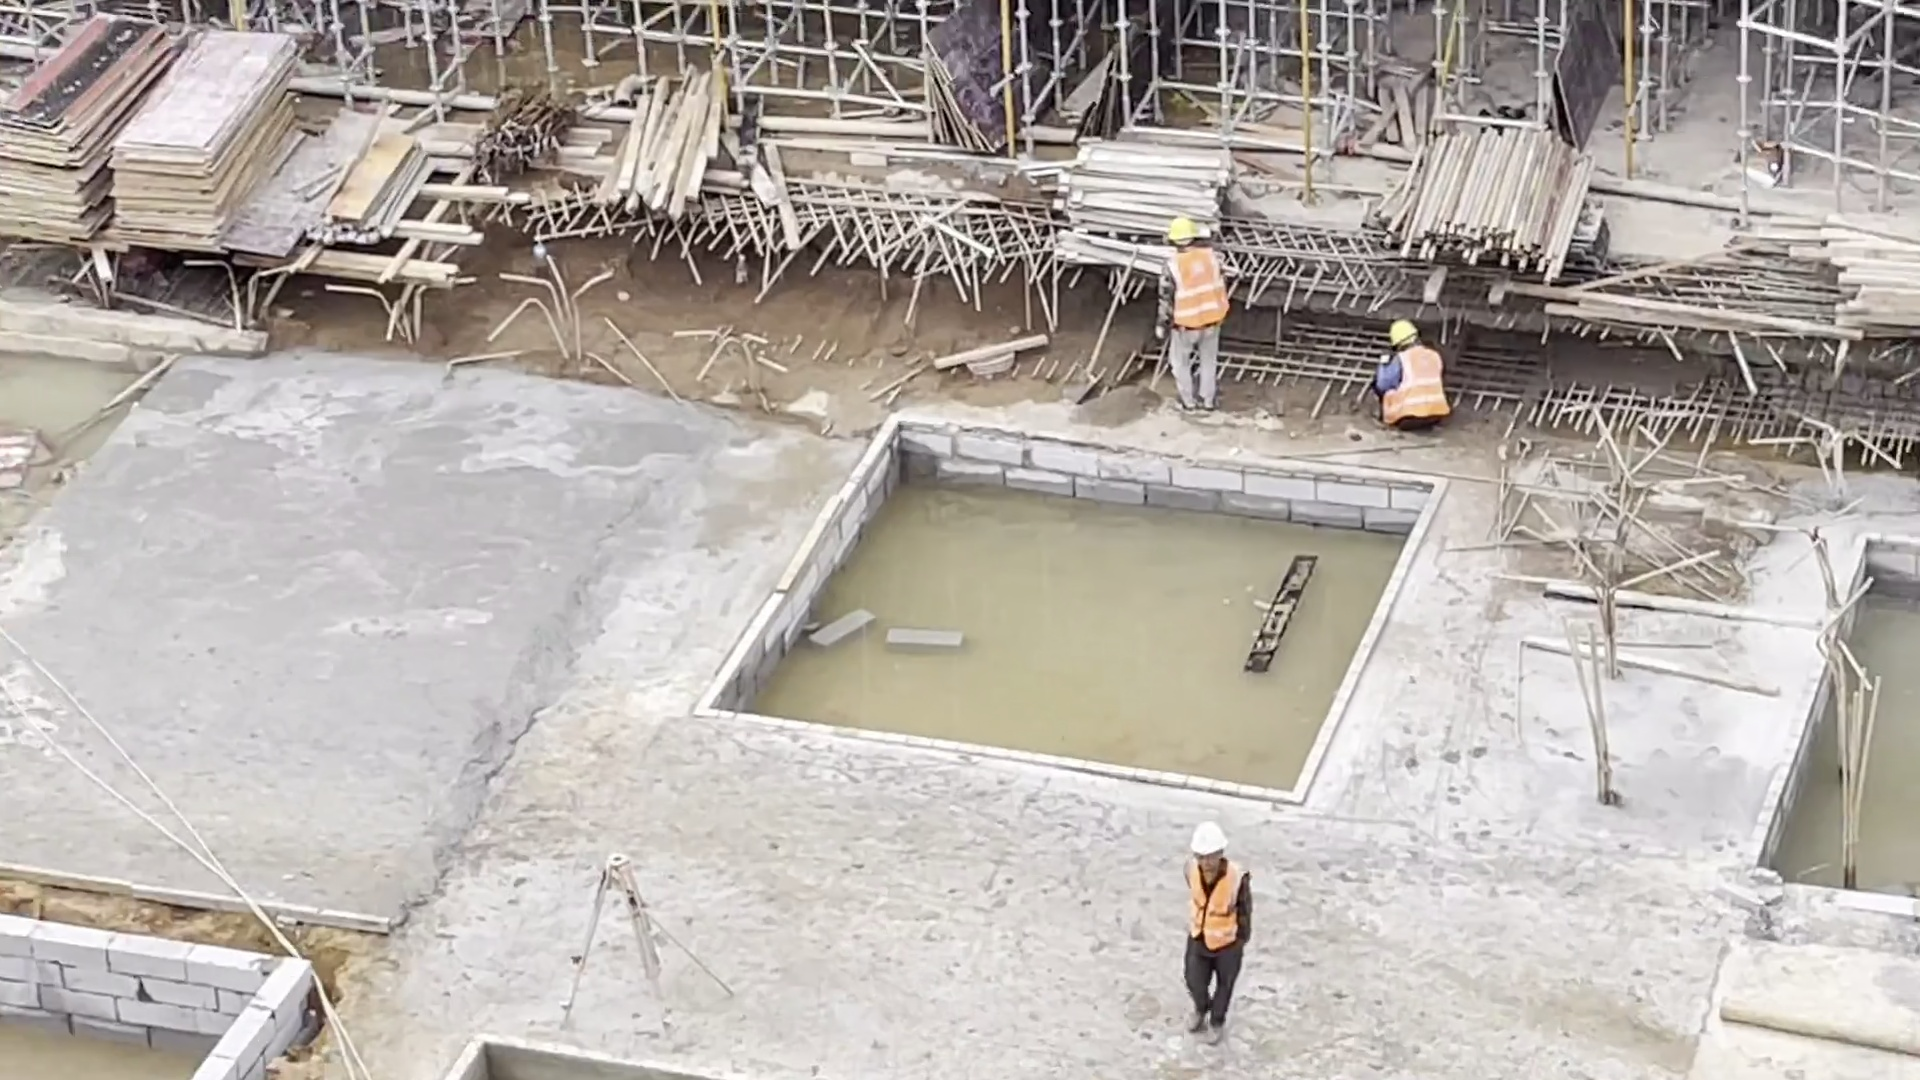board: (1, 17, 173, 241), (113, 30, 297, 236)
helmet: (1190, 821, 1228, 856), (1387, 317, 1418, 347), (1168, 216, 1199, 242)
person: (1180, 808, 1253, 1046), (1160, 208, 1233, 414), (1371, 314, 1455, 434)
rebar: (466, 86, 575, 187)
vest: (1182, 862, 1248, 955), (1381, 348, 1453, 421), (1168, 245, 1225, 329)
wood: (1044, 132, 1235, 270), (597, 66, 731, 217), (1791, 205, 1920, 335)
